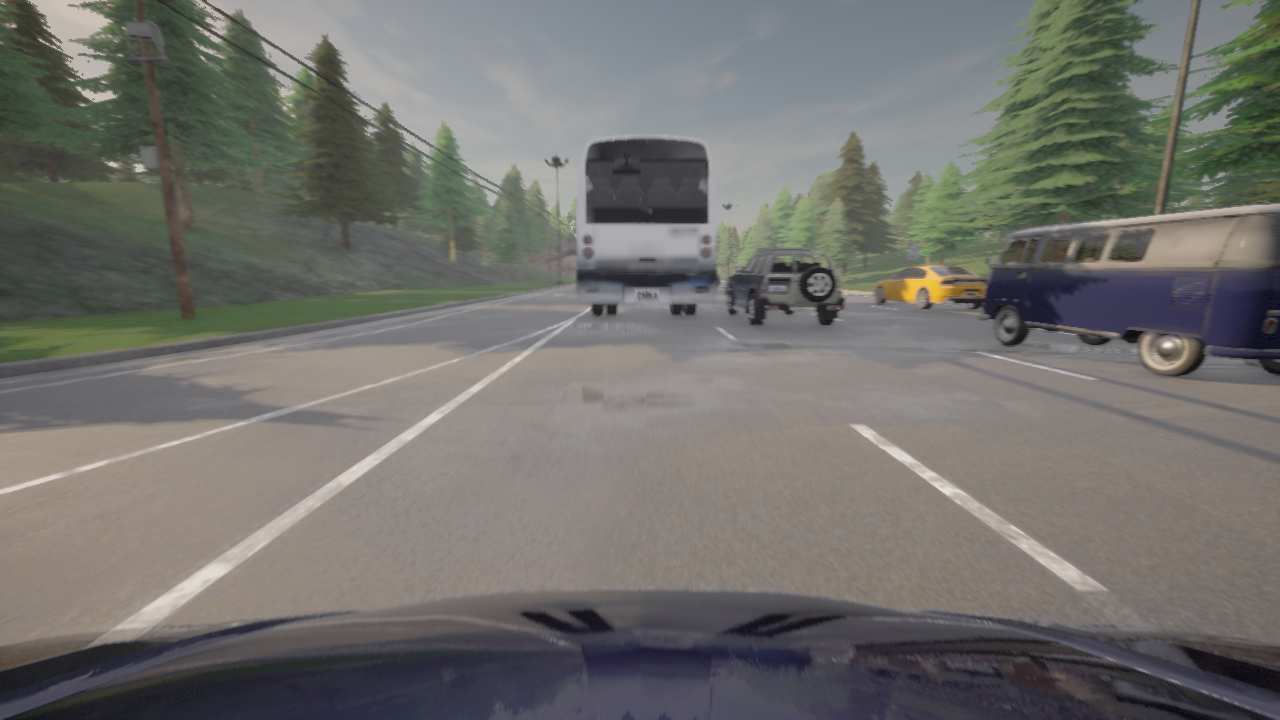cyclist: (0, 588, 1279, 719), (978, 203, 1279, 376), (577, 134, 716, 315), (725, 247, 845, 325), (875, 264, 987, 309), (717, 274, 719, 284)
